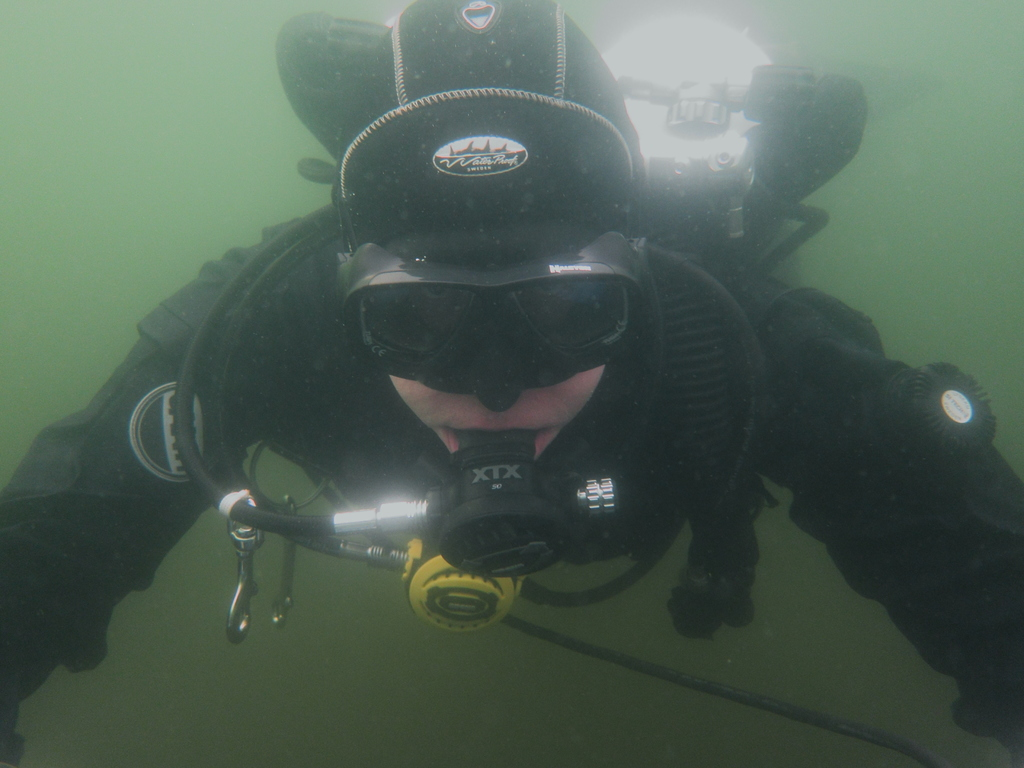Person: (0, 1, 1024, 768)
